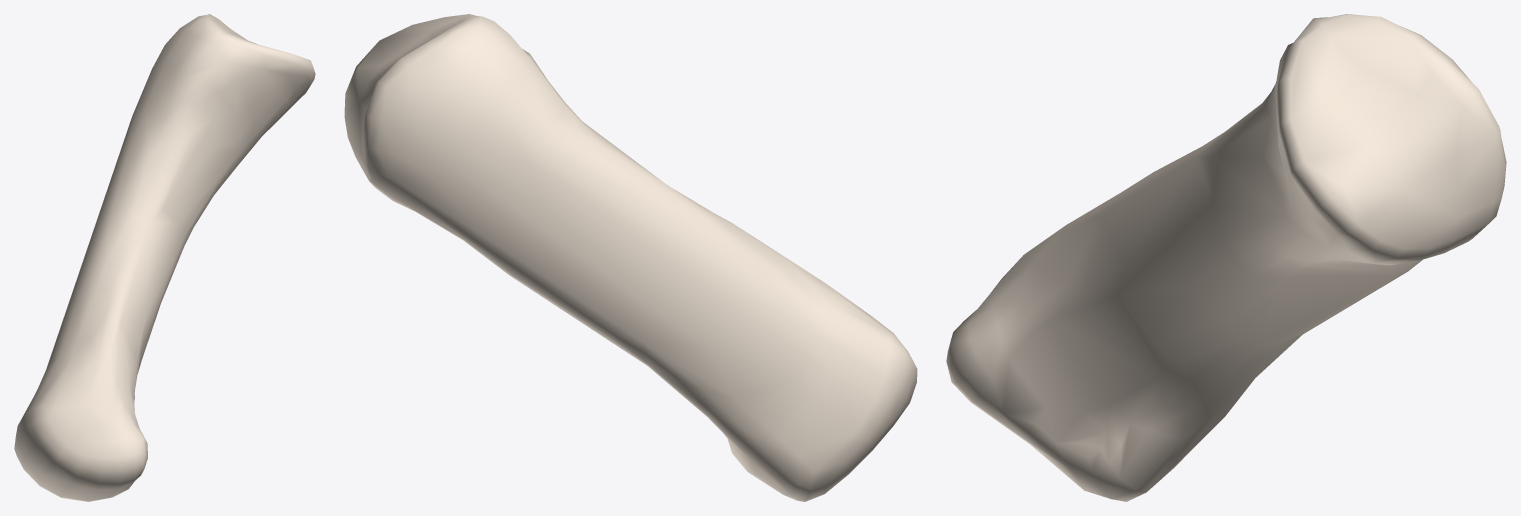
The model's file is right_metacarpal_1.glb.
The picture shows the model from 3 angles, left to right: view 1: azimuth 30°, elevation 25°; view 2: azimuth 150°, elevation 25°; view 3: azimuth 270°, elevation 25°; orthographic projection. The views are drawn at different scales.
Visible parts, largest first — view 1: 1st metacarpal bone.r; view 2: 1st metacarpal bone.r; view 3: 1st metacarpal bone.r.
Part boxes in pixels (left/top/right/bottom): 1st metacarpal bone.r: left=14, top=14, right=315, bottom=501; 1st metacarpal bone.r: left=344, top=14, right=917, bottom=501; 1st metacarpal bone.r: left=946, top=14, right=1506, bottom=501.
Bounding box in the file's own units: 0.0381 × 0.0378 × 0.0307.
